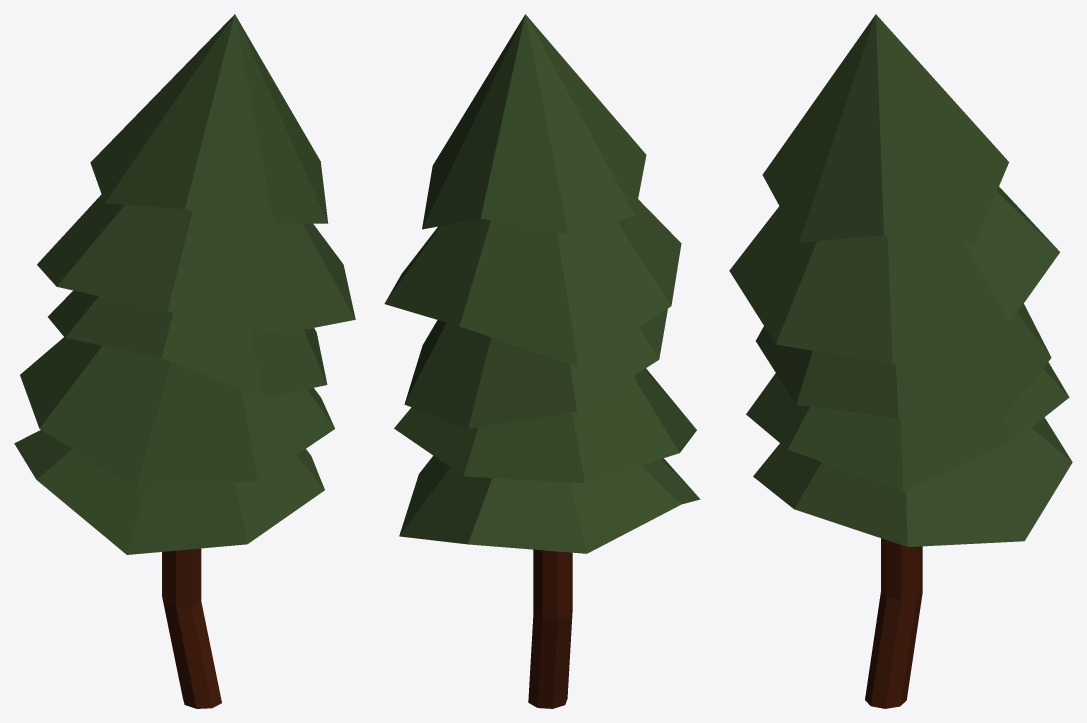
Rendered from agac.fbx.
The picture shows the model from 3 angles, left to right: view 1: azimuth 30°, elevation 25°; view 2: azimuth 150°, elevation 25°; view 3: azimuth 270°, elevation 25°; orthographic projection. The views are drawn at different scales.
Visible parts, largest first — view 1: Circle.001; view 2: Circle.001; view 3: Circle.001.
Part boxes in pixels (x1=…): Circle.001: x1=14, y1=14, x2=355, y2=708; Circle.001: x1=384, y1=14, x2=700, y2=708; Circle.001: x1=729, y1=14, x2=1072, y2=708.
Bounding box in the file's own units: 0.8445 × 1.87 × 0.8312.
